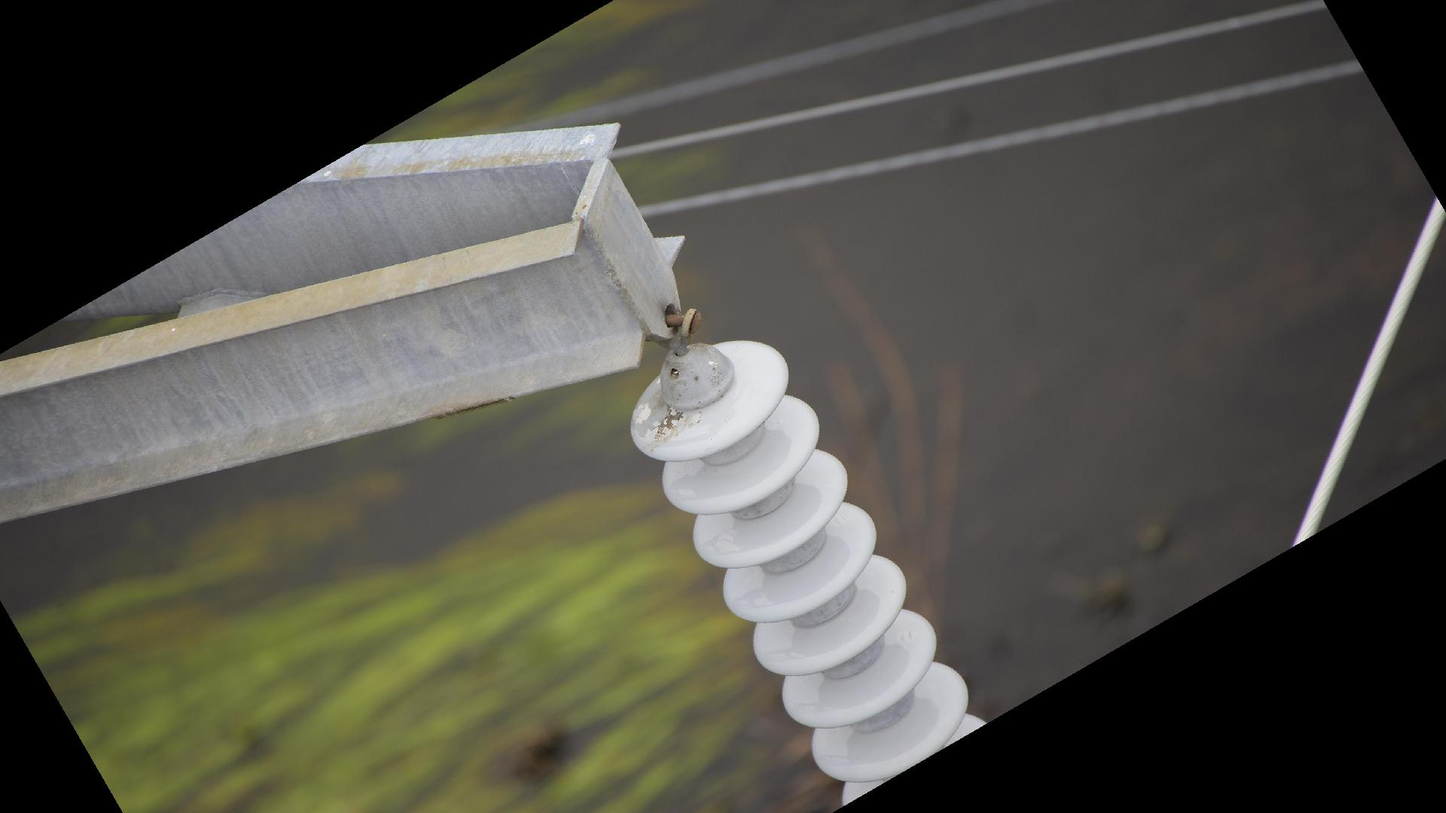insulator: (626, 330, 997, 813)
insulator_flashover: (626, 372, 682, 449)
